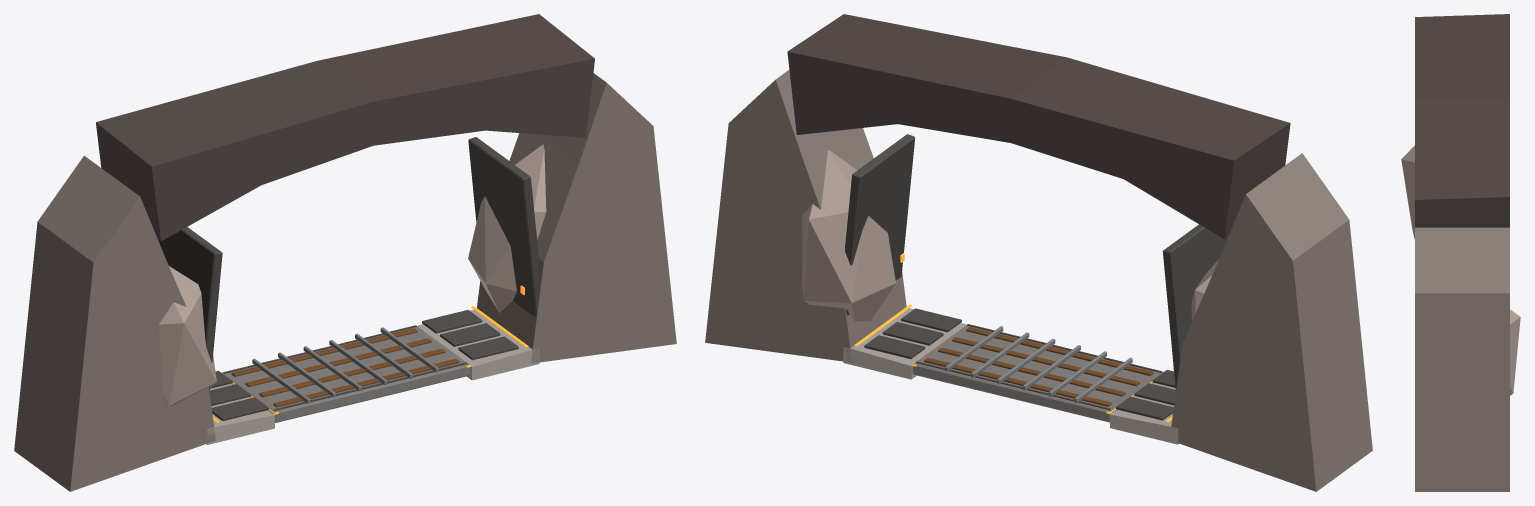
File: ember_forge_platform.glb
3 renders of one model, left to right at view 1: azimuth 30°, elevation 25°; view 2: azimuth 150°, elevation 25°; view 3: azimuth 270°, elevation 25°, orthographic. The views are drawn at different scales.
Parts seen in each view (by area): view 1: GEO_wall, GEO_ceiling, GEO_iron, GEO_wall_alt, GEO_ground, GEO_ground_alt, GEO_wood, GEO_rail; view 2: GEO_wall, GEO_ceiling, GEO_iron, GEO_wall_alt, GEO_ground, GEO_ground_alt, GEO_wood, GEO_rail; view 3: GEO_wall, GEO_ceiling, GEO_wall_alt.
Part boxes in pixels (bbox=[...]): GEO_wall: bbox=[14, 73, 676, 491]; GEO_ceiling: bbox=[96, 14, 594, 241]; GEO_iron: bbox=[158, 137, 540, 420]; GEO_wall_alt: bbox=[159, 144, 546, 406]; GEO_ground: bbox=[221, 326, 470, 422]; GEO_ground_alt: bbox=[206, 309, 539, 444]; GEO_wood: bbox=[231, 328, 459, 407]; GEO_rail: bbox=[252, 327, 438, 403]; GEO_wall: bbox=[705, 70, 1372, 491]; GEO_ceiling: bbox=[787, 14, 1290, 239]; GEO_iron: bbox=[845, 134, 1227, 420]; GEO_wall_alt: bbox=[802, 150, 1218, 321]; GEO_ground: bbox=[912, 325, 1163, 422]; GEO_ground_alt: bbox=[843, 308, 1178, 444]; GEO_wood: bbox=[924, 327, 1153, 406]; GEO_rail: bbox=[945, 326, 1132, 402]; GEO_wall: bbox=[1415, 227, 1509, 491]; GEO_ceiling: bbox=[1415, 14, 1509, 227]; GEO_wall_alt: bbox=[1401, 145, 1520, 395].
Size of the model in its own units: 26 by 12.95 by 5.24.
